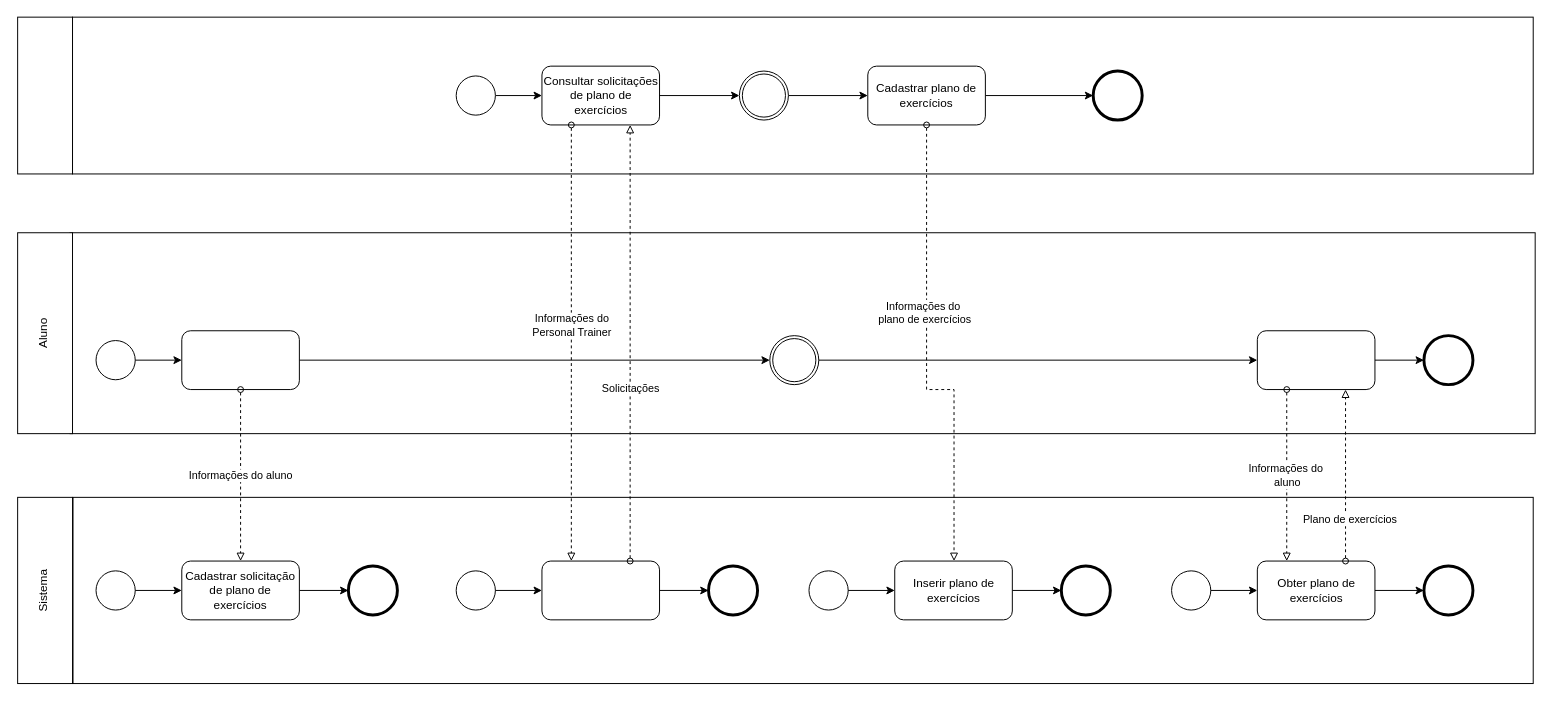
Image size: 1552x701. Some labels were removed from this diagram. The centre of each missing label's shape, as x and y in pixels:
"Consultar plano de exercícios" goes at point 1315,360.
"Obter solicitações de plano de exercícios" goes at point 600,590.
"Personal Trainer" goes at point 45,95.
"Solicitar plano de exercícios" goes at point 240,360.
